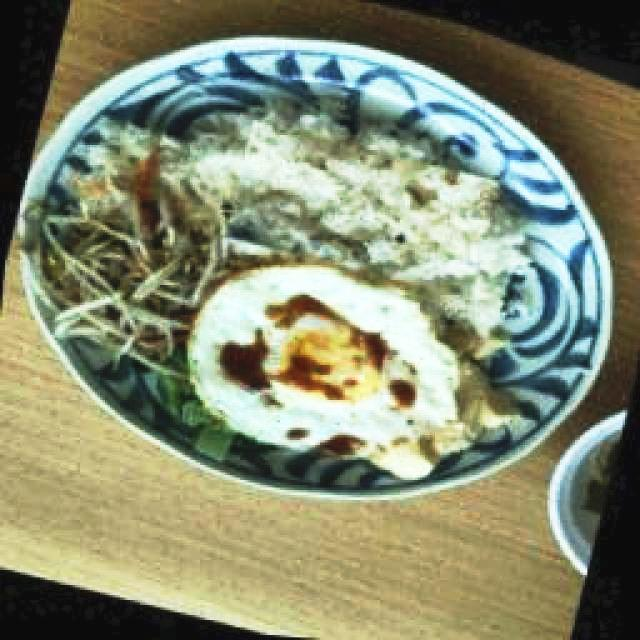fried_eggs: (189, 263, 458, 450)
mung_bean_sprouts: (48, 181, 224, 372)
rice: (173, 106, 525, 331)
